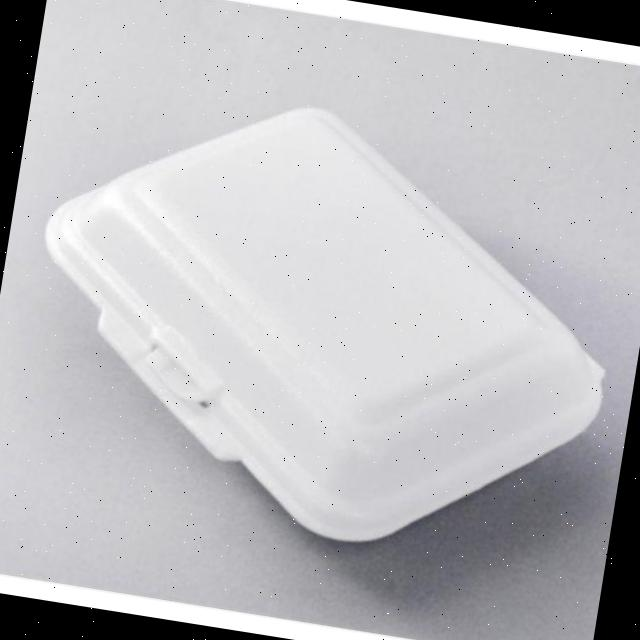styrofoam: (2, 65, 640, 580)
